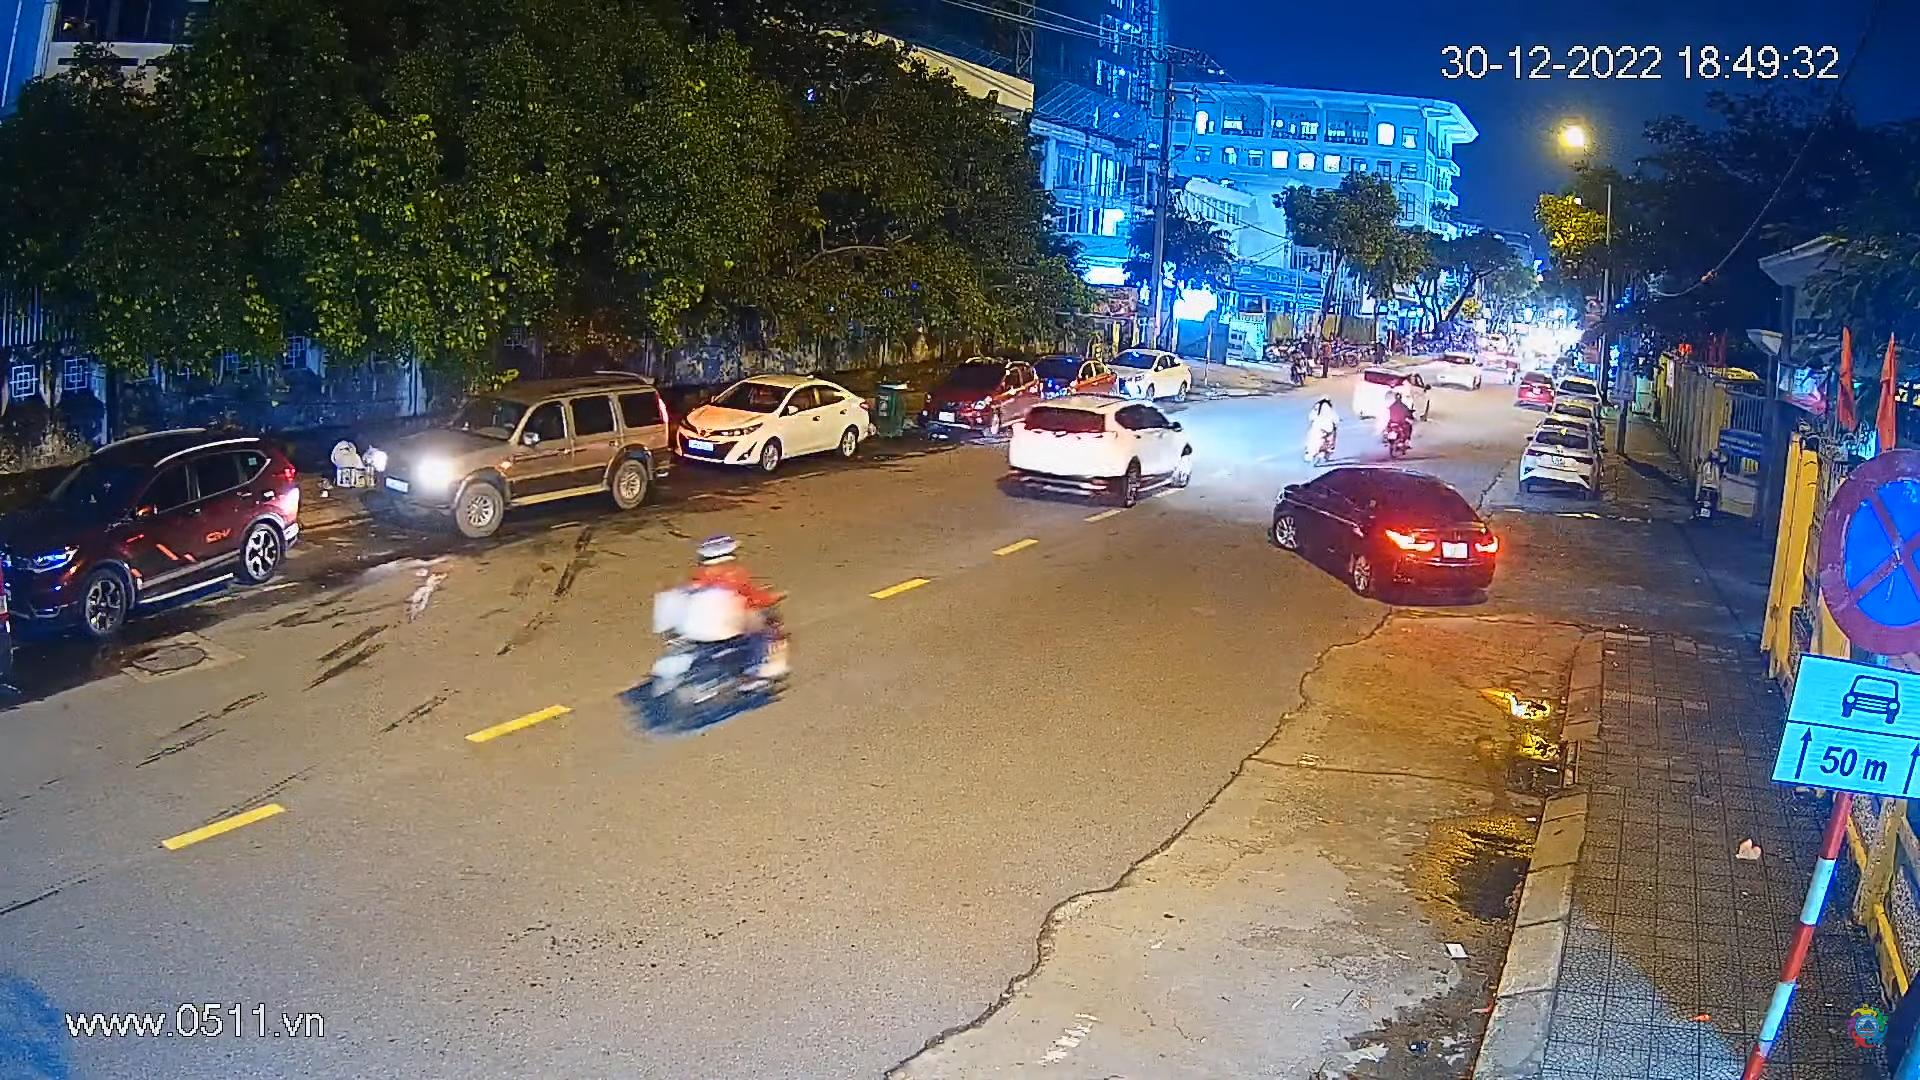car: (0, 422, 309, 640), (401, 371, 686, 538), (1271, 460, 1498, 605), (1004, 385, 1195, 510), (694, 375, 876, 468), (906, 355, 1046, 440), (1035, 349, 1126, 427), (1520, 418, 1600, 505), (1105, 349, 1199, 410), (1353, 365, 1432, 422), (1551, 375, 1606, 418), (1433, 351, 1486, 392), (1516, 367, 1559, 411)
motorcycle: (649, 530, 795, 732), (1689, 446, 1733, 522), (1303, 396, 1340, 472), (1382, 386, 1418, 454)
